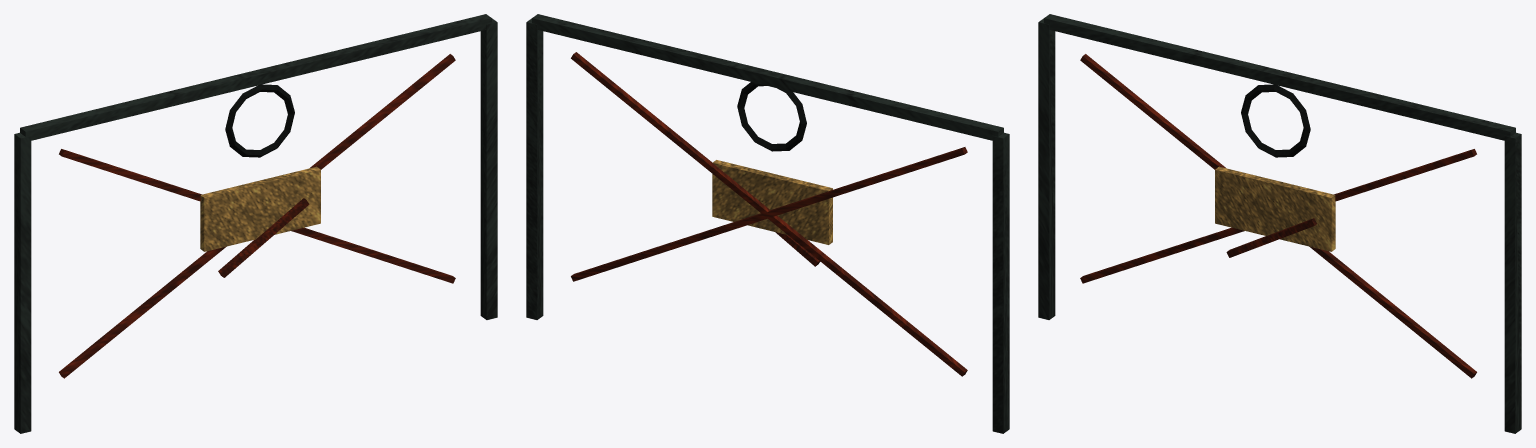
File: north-silence-gate.glb
3 views of the same model, side by side, from view 1: azimuth 30°, elevation 25°; view 2: azimuth 150°, elevation 25°; view 3: azimuth 330°, elevation 25° (orthographic).
Parts seen in each view (by area): view 1: north-silence-gate; view 2: north-silence-gate; view 3: north-silence-gate.
Part boxes in pixels (box(x1,y1,x2,y2)): north-silence-gate: box(14, 14, 497, 433); north-silence-gate: box(526, 14, 1009, 433); north-silence-gate: box(1038, 14, 1521, 433).
Bounding box in the file's own units: 10.64 × 6.41 × 0.485.
1 material, 1 textured.
